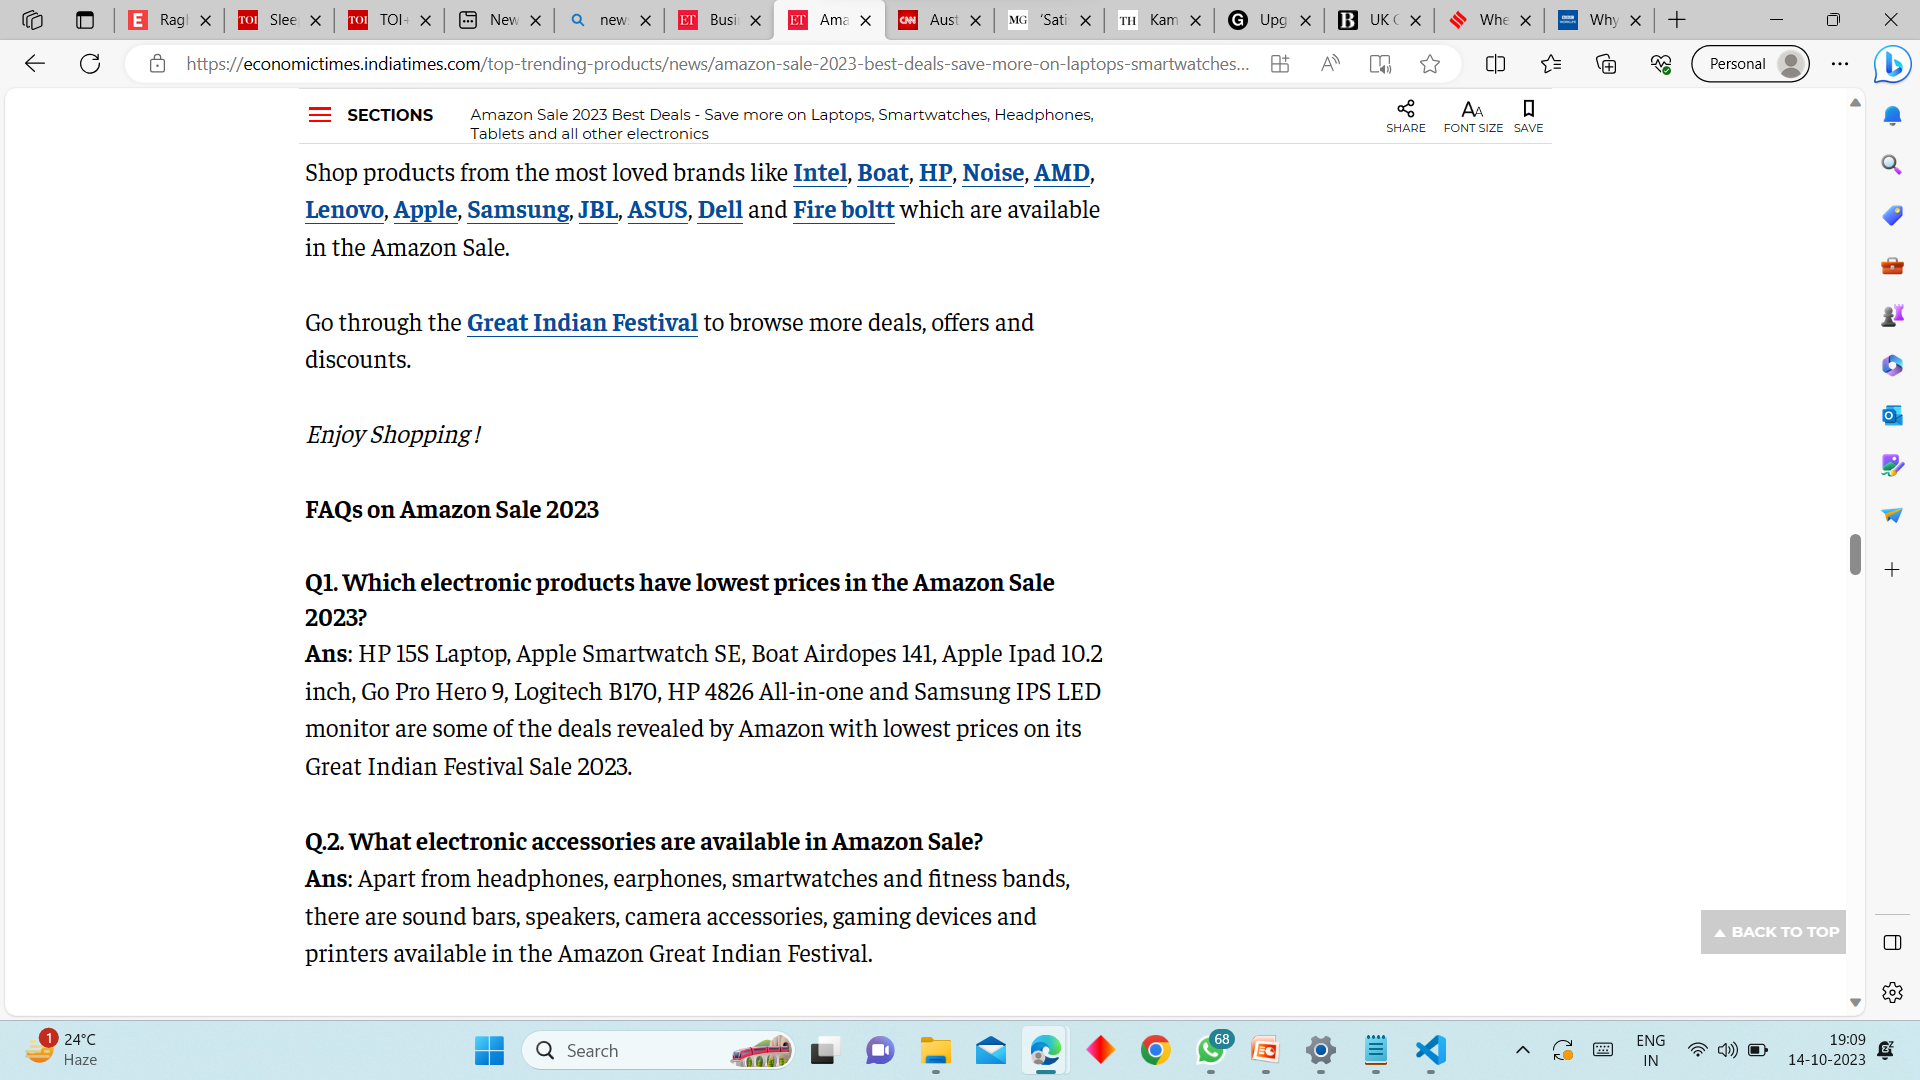Image: (306, 94, 335, 129)
Paragraph: (293, 637, 1106, 790), (293, 154, 1160, 276), (286, 861, 1071, 981), (289, 298, 1083, 385), (293, 566, 1091, 628), (454, 90, 1091, 138), (284, 823, 1002, 856), (286, 483, 599, 537), (280, 411, 501, 463), (340, 92, 434, 129), (1447, 92, 1514, 136), (1386, 100, 1429, 129), (1523, 90, 1545, 145)
